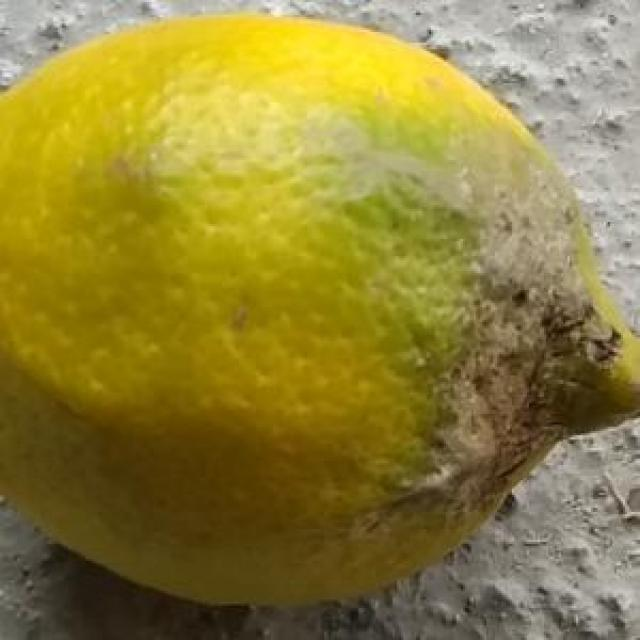lemon: (0, 8, 640, 635)
